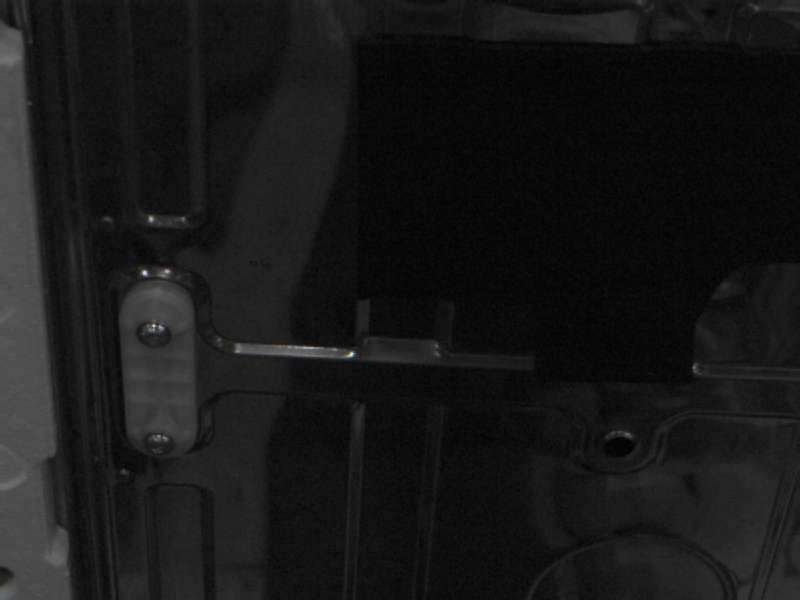screw: (136, 321, 172, 348), (144, 432, 175, 456)
